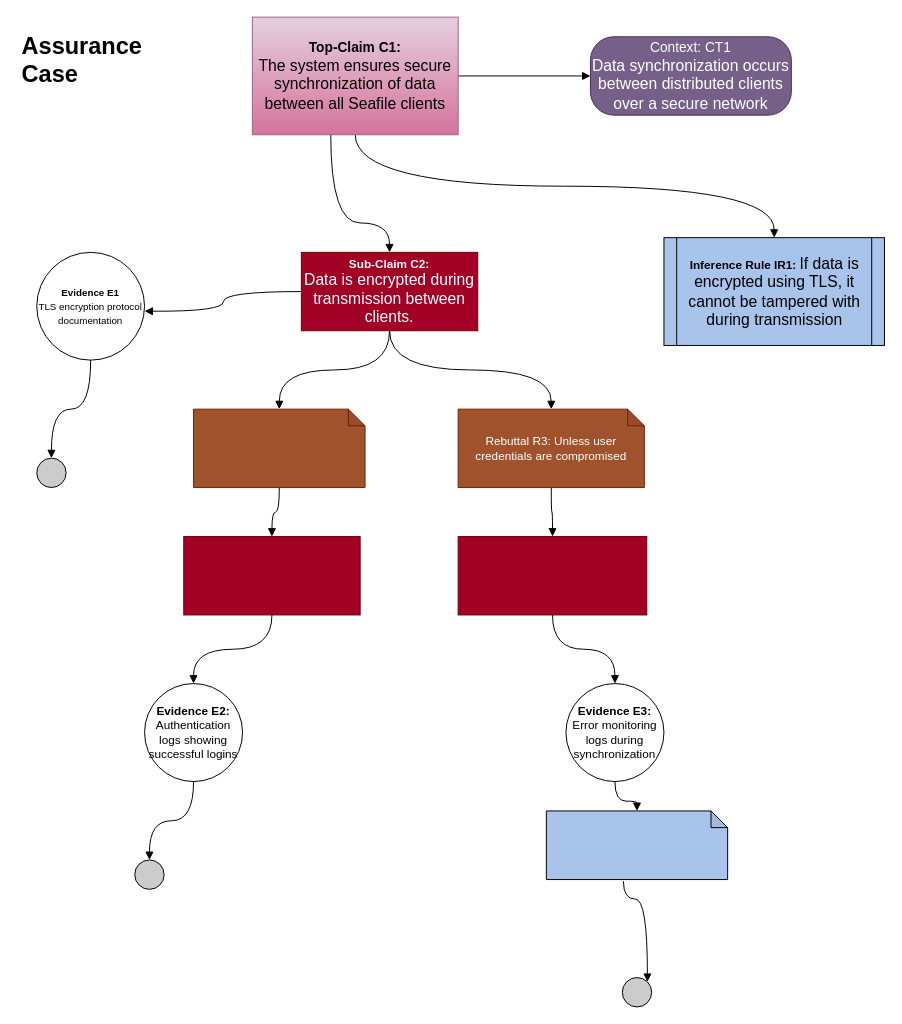
This 902x1024 diagram has some shape labels left out. The centre of each missing label's shape, as x and y in pixels:
"Rebuttal R2: Unless the encryption protocol is outdated" belongs at (x=279, y=448).
"Sub-Claim C3: Only authenticated users can initiate synchronization" belongs at (x=271, y=575).
"Sub-Claim C4: The system detects and logs synchronization errors in real-time" belongs at (x=552, y=575).
"Undermine UM1: Unless network failures prevent error detection" belongs at (x=636, y=845).
